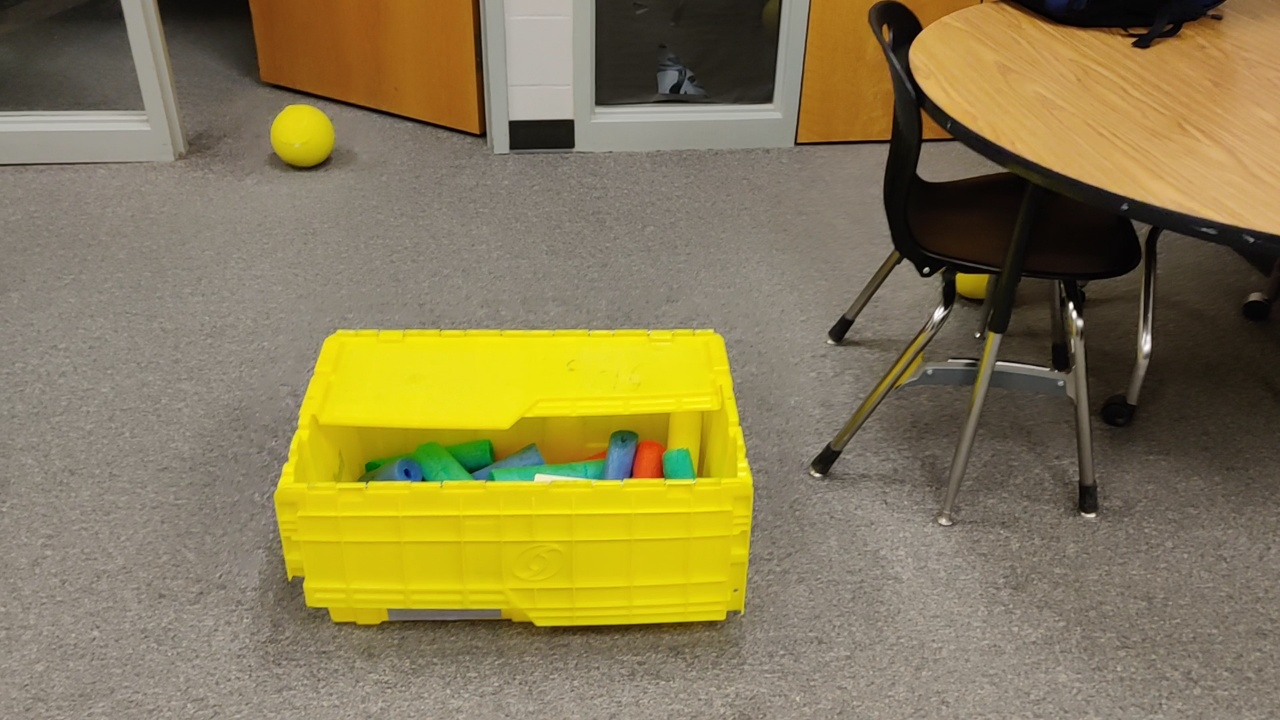Ball: (270, 105, 336, 166), (955, 275, 989, 297)
